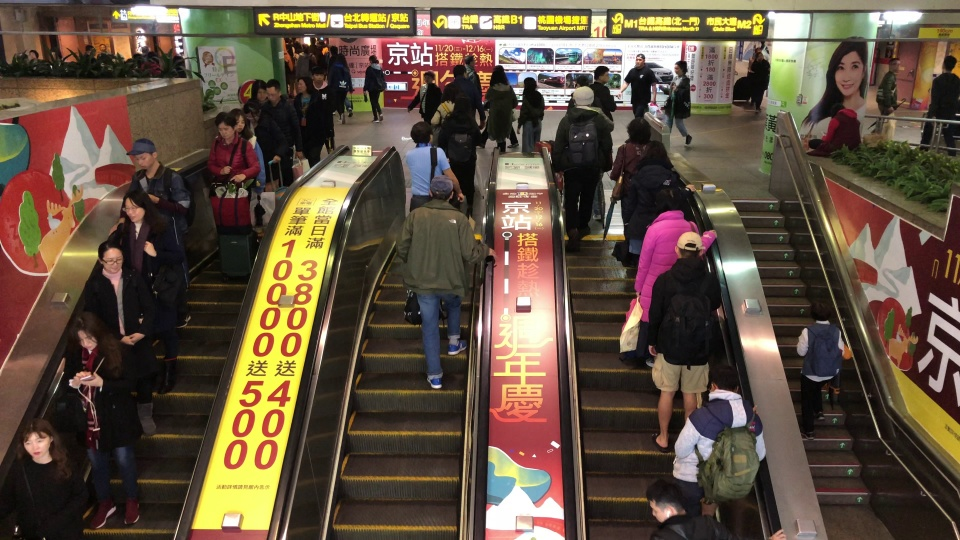person_head: (644, 477, 688, 524), (16, 419, 64, 461), (69, 311, 101, 351), (707, 366, 740, 395), (122, 189, 150, 223), (98, 240, 125, 275), (671, 231, 703, 260), (638, 141, 671, 167), (623, 117, 653, 144), (131, 139, 157, 168), (427, 174, 453, 201), (654, 187, 681, 213), (213, 112, 236, 139), (570, 86, 594, 110), (409, 120, 431, 144), (487, 66, 511, 88), (453, 94, 473, 116), (808, 300, 830, 320), (228, 107, 245, 131), (265, 79, 281, 102), (940, 55, 957, 74), (243, 103, 259, 122), (251, 80, 266, 100), (440, 88, 458, 104), (829, 103, 847, 119), (450, 63, 466, 80), (594, 66, 609, 83), (310, 66, 325, 81), (523, 77, 537, 93), (672, 61, 688, 75), (295, 78, 310, 92), (632, 53, 646, 68), (887, 57, 901, 72), (422, 71, 435, 84), (463, 56, 476, 69), (575, 77, 589, 88), (83, 44, 95, 56), (366, 54, 378, 65), (335, 54, 345, 67), (28, 49, 39, 60), (301, 43, 309, 55), (98, 43, 107, 53), (330, 46, 339, 55), (140, 45, 149, 53), (755, 53, 764, 61), (308, 37, 316, 45), (318, 39, 325, 46), (754, 47, 761, 53), (288, 39, 293, 44)
person_vbox: (394, 174, 496, 389), (648, 231, 731, 451), (63, 310, 144, 531), (99, 187, 182, 395), (108, 139, 195, 323), (636, 186, 717, 367), (91, 239, 161, 437), (676, 365, 766, 504), (0, 419, 86, 539), (552, 85, 613, 242), (626, 142, 698, 247), (794, 300, 846, 440), (563, 77, 611, 221), (640, 478, 739, 540), (438, 93, 486, 218), (400, 120, 465, 211), (611, 117, 655, 230), (206, 112, 261, 192), (261, 79, 300, 187), (920, 55, 960, 156), (242, 103, 284, 192), (441, 64, 486, 145), (227, 107, 269, 193), (481, 66, 520, 153), (805, 103, 863, 158), (657, 61, 693, 148), (289, 78, 322, 166), (617, 52, 657, 118), (309, 65, 338, 144), (517, 77, 545, 154), (403, 70, 441, 124), (875, 56, 901, 130), (361, 53, 388, 124), (429, 88, 461, 144), (463, 57, 486, 130), (588, 64, 617, 120), (334, 54, 356, 124), (746, 52, 770, 112), (296, 43, 316, 81), (328, 48, 338, 115), (745, 46, 765, 77), (308, 36, 323, 63), (317, 37, 329, 56), (97, 42, 109, 58), (287, 40, 296, 52)
